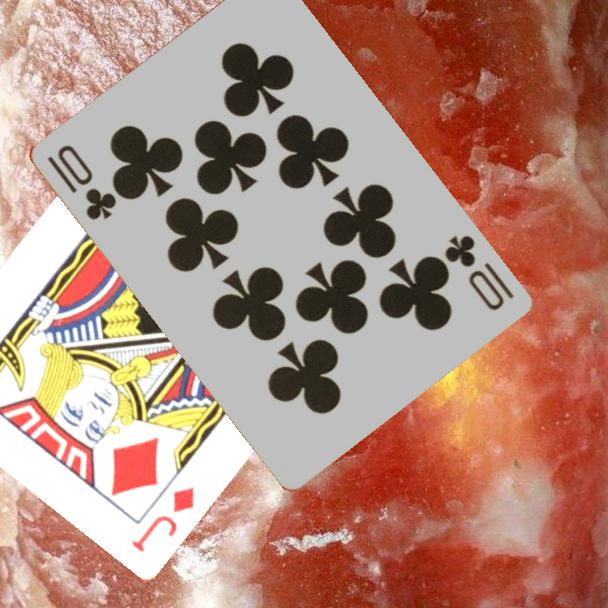c10: (440, 231, 517, 314), (42, 141, 119, 223)
d11: (127, 482, 198, 555)
